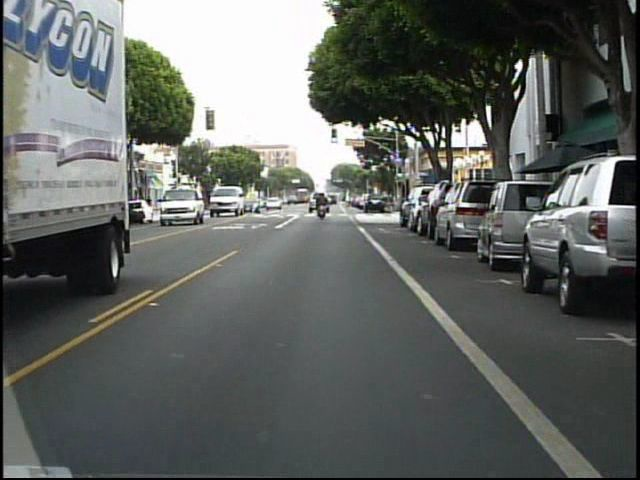person: (315, 191, 331, 220)
